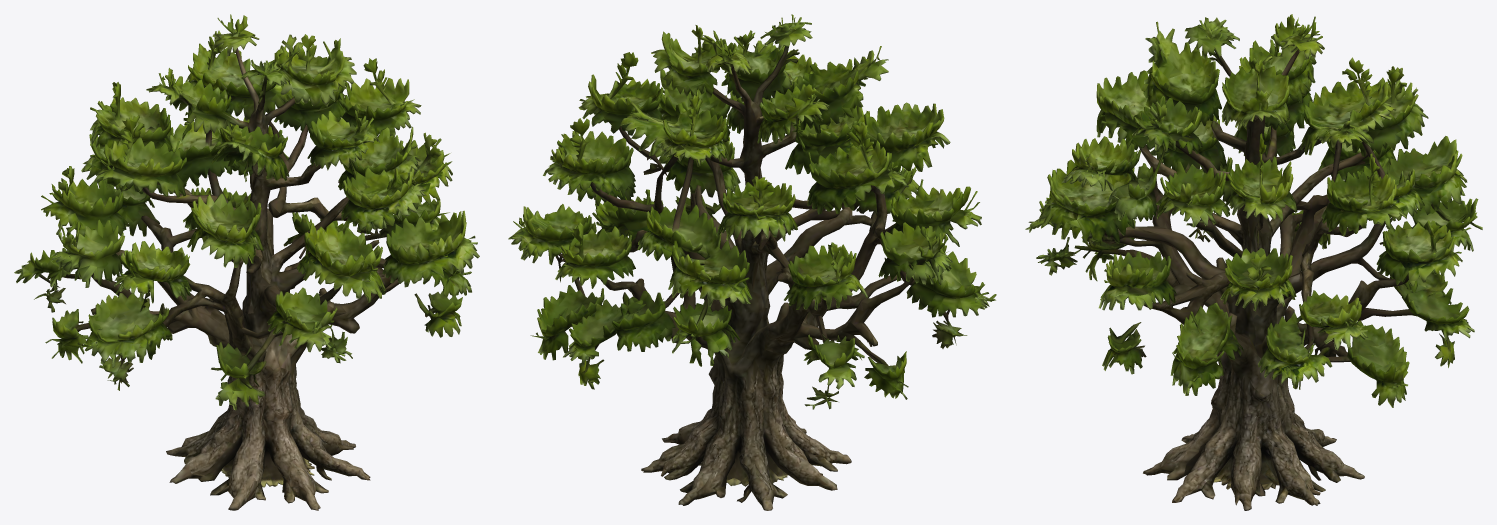
File: 06_tree.glb
3 renders of one model, left to right at view 1: azimuth 30°, elevation 25°; view 2: azimuth 150°, elevation 25°; view 3: azimuth 270°, elevation 25°, orthographic. The views are drawn at different scales.
Parts seen in each view (by area): view 1: tripo_06_tree; view 2: tripo_06_tree; view 3: tripo_06_tree.
Part boxes in pixels (x1,y1,x2,y2): tripo_06_tree: (14,14,479,510); tripo_06_tree: (508,14,996,510); tripo_06_tree: (1025,14,1482,510).
Bounding box in the file's own units: 0.9956 × 1 × 0.9199.
Materials: 1 (1 with a texture image).
